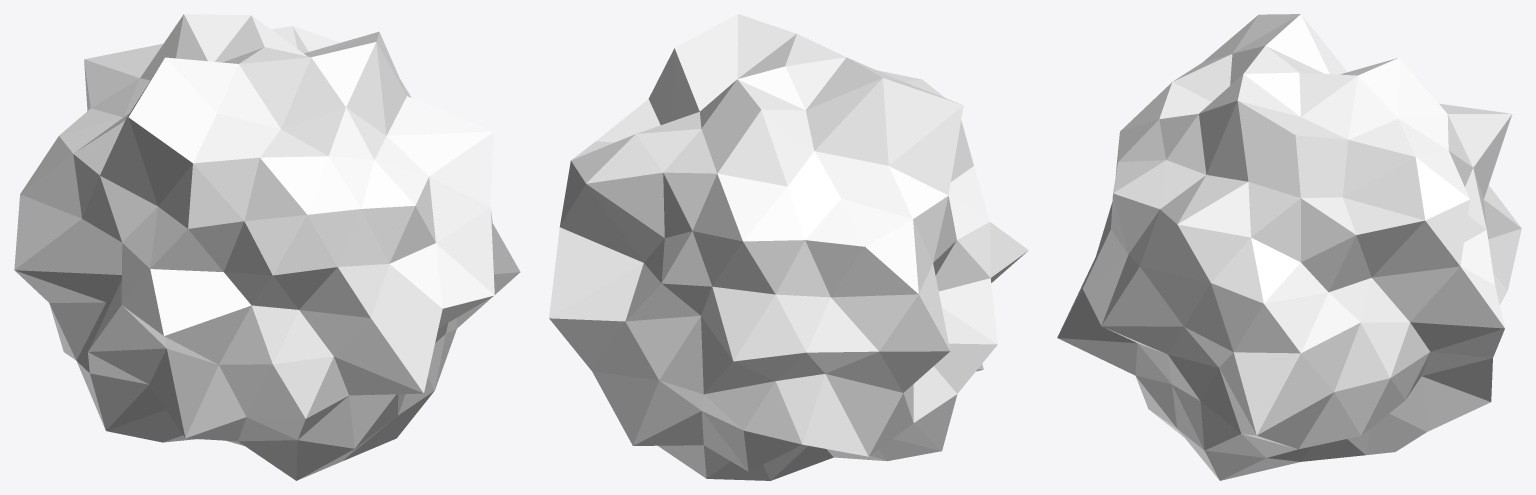
File: Paper14.fbx
3 renders of one model, left to right at view 1: azimuth 30°, elevation 25°; view 2: azimuth 150°, elevation 25°; view 3: azimuth 270°, elevation 25°, orthographic. The views are drawn at different scales.
Parts seen in each view (by area): view 1: Paper14; view 2: Paper14; view 3: Paper14.
Part boxes in pixels (left/top/right/bottom): Paper14: left=14, top=14, right=520, bottom=480; Paper14: left=549, top=14, right=1028, bottom=480; Paper14: left=1057, top=14, right=1521, bottom=480.
Bounding box in the file's own units: 0.1068 × 0.1019 × 0.0928.
